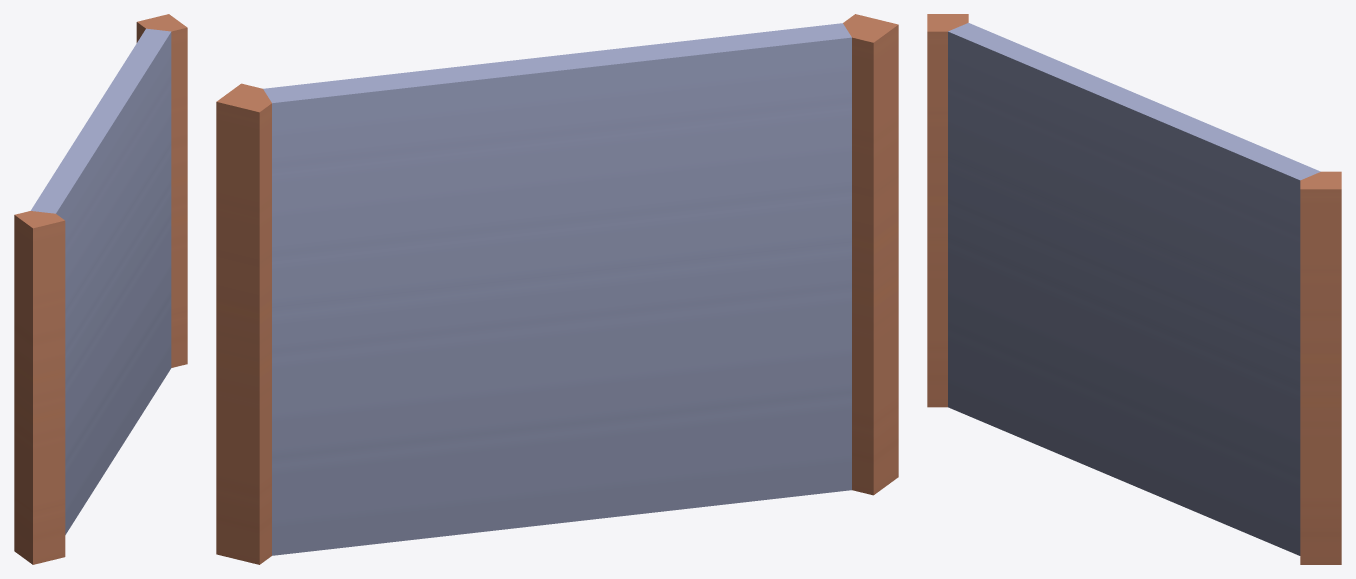
Rendered from wall-diagonal.fbx.
3 views of the same model, side by side, from view 1: azimuth 30°, elevation 25°; view 2: azimuth 150°, elevation 25°; view 3: azimuth 270°, elevation 25° (orthographic). The views are drawn at different scales.
Visible parts, largest first — view 1: wall-diagonal; view 2: wall-diagonal; view 3: wall-diagonal.
Part boxes in pixels (box(x1,y1,x2,y2)): wall-diagonal: box(14, 14, 187, 564); wall-diagonal: box(216, 14, 898, 564); wall-diagonal: box(927, 14, 1341, 564).
Size of the model in its own units: 100 by 100 by 100.
1 material, 1 textured.
